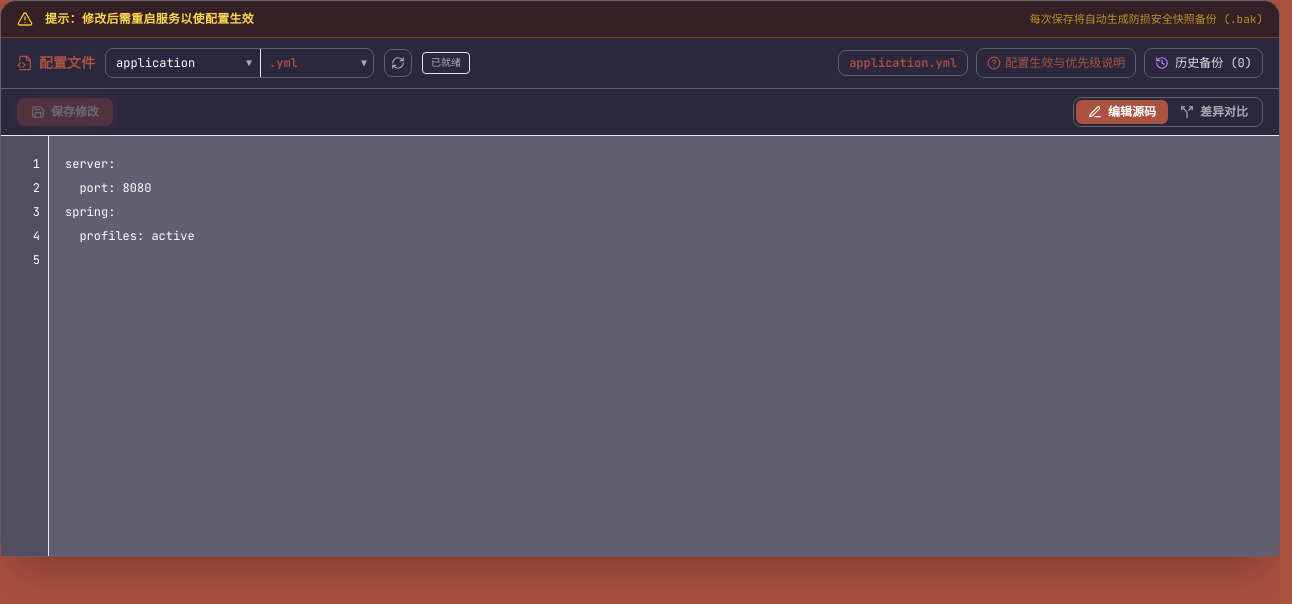
Test: ConfigDiffEditor › allows changing suffix to yaml or properties and loads corresponding file
Check: the text with test id "config-current-filename" reads "application.yml", box [849, 55, 957, 71]
Select ".yaml" in the dropdown with test id "config-suffix-select" at (317, 63), box [261, 49, 373, 77]
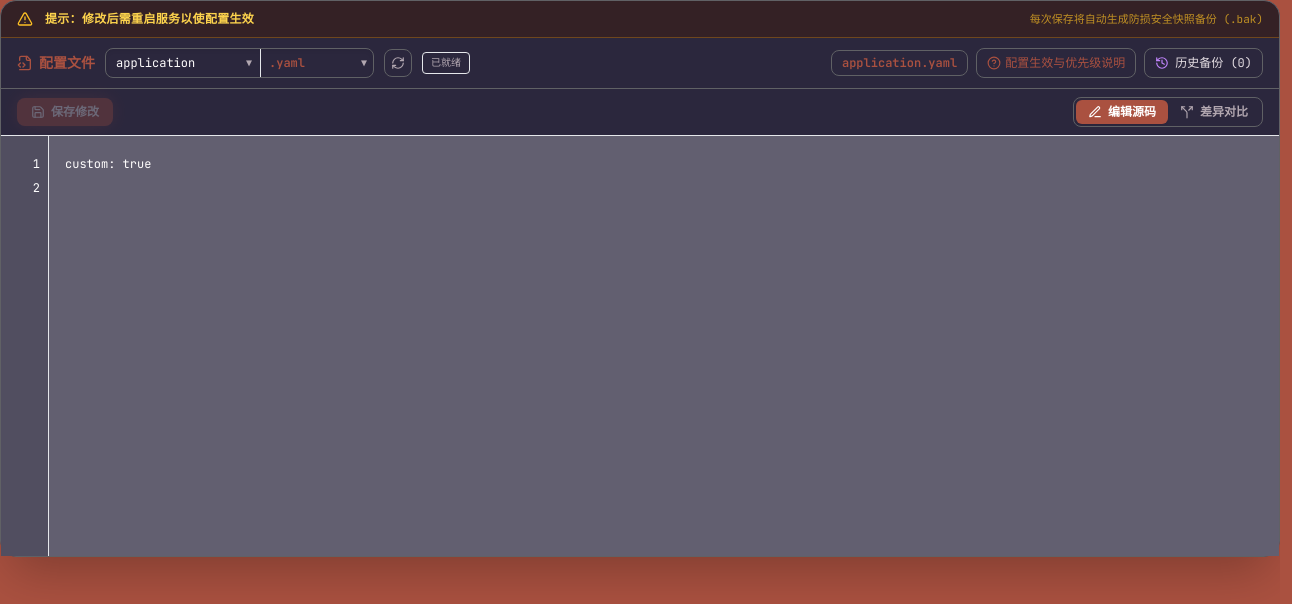
Check: the text with test id "config-current-filename" reads "application.yaml", box [842, 55, 957, 71]
Select ".properties" in the dropdown with test id "config-suffix-select" at (317, 63), box [261, 49, 373, 77]
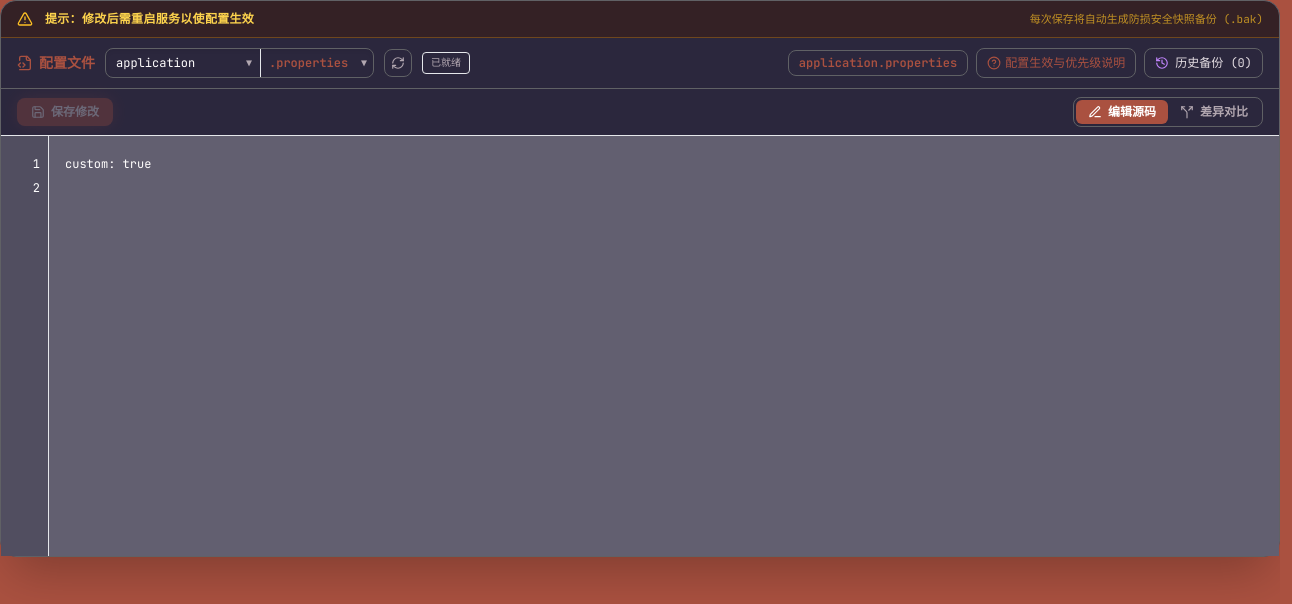
Check: the text with test id "config-current-filename" reads "application.properties", box [799, 55, 957, 71]
